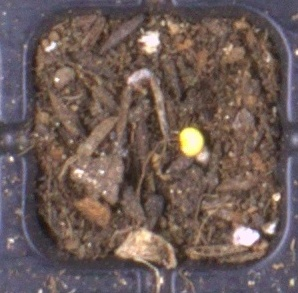chilli seed: (178, 126, 205, 158)
